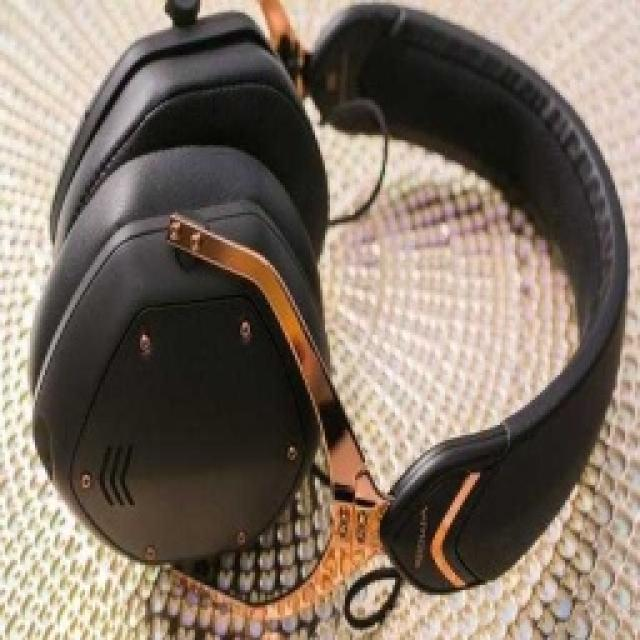headphones: (25, 0, 627, 598)
